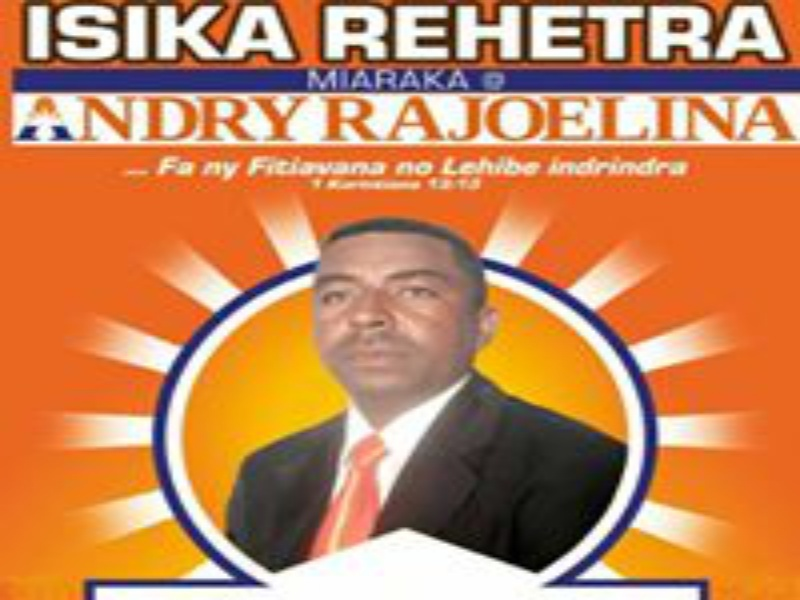TsisyArotava: (301, 208, 504, 418)
